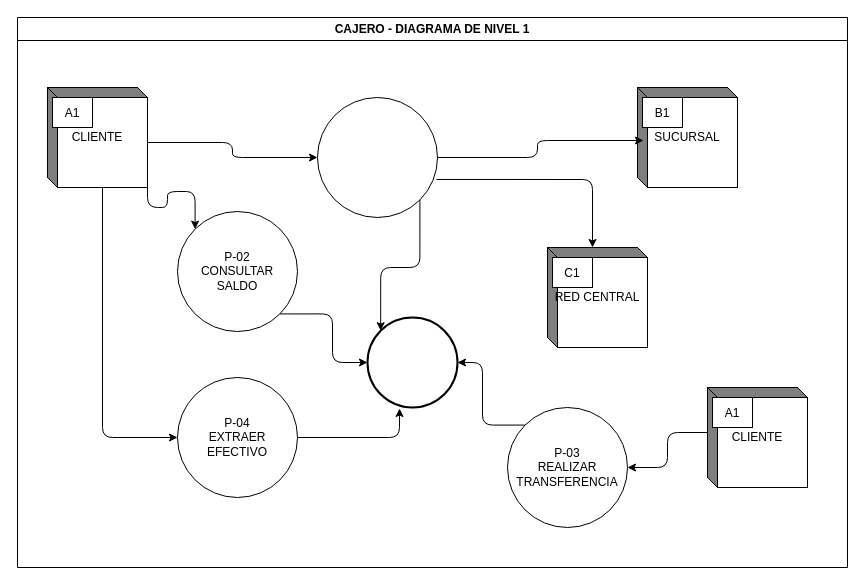
This 865x585 diagram has some shape labels left out. The centre of each missing label's shape, as x and y in pixels:
"CAJERO" belongs at (412,362).
"P-01 AUTENTICAR CLIENTE" belongs at (377,157).
